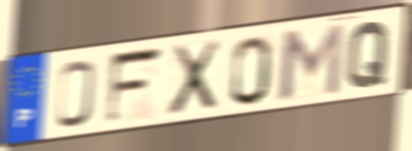0: (229, 33, 275, 107), (56, 58, 98, 131)
F: (103, 43, 166, 129)
M: (277, 21, 346, 103)
Q: (344, 18, 393, 91)
X: (165, 36, 223, 119)
